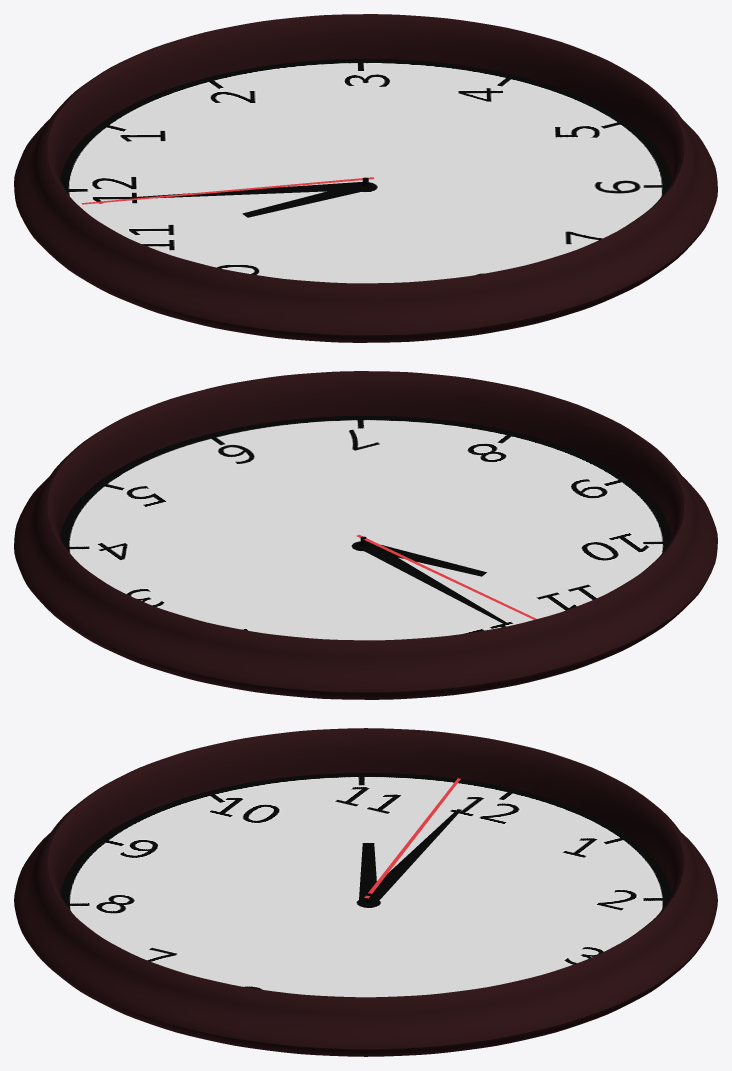
Rendered from clock (2).fbx.
3 renders of one model, top to bottom at view 1: azimuth 30°, elevation 25°; view 2: azimuth 150°, elevation 25°; view 3: azimuth 270°, elevation 25°, orthographic.
Visible parts, largest first — view 1: clock, min, hour, strelka; view 2: clock, min, hour, strelka; view 3: clock, min, hour, strelka.
Boxes of the visible parts, x1,y1,x2,y2 form: clock: (14,14,717,342); min: (131,182,366,198); hour: (242,187,370,217); strelka: (81,177,374,204); clock: (14,371,717,699); min: (356,543,507,624); hour: (366,541,486,576); strelka: (356,534,536,619); clock: (14,728,717,1056); min: (360,809,461,902); hour: (359,843,376,901); strelka: (364,778,460,902).
Size of the model in its own units: 229 by 17.91 by 229.
Materials: 5 (1 with a texture image).
